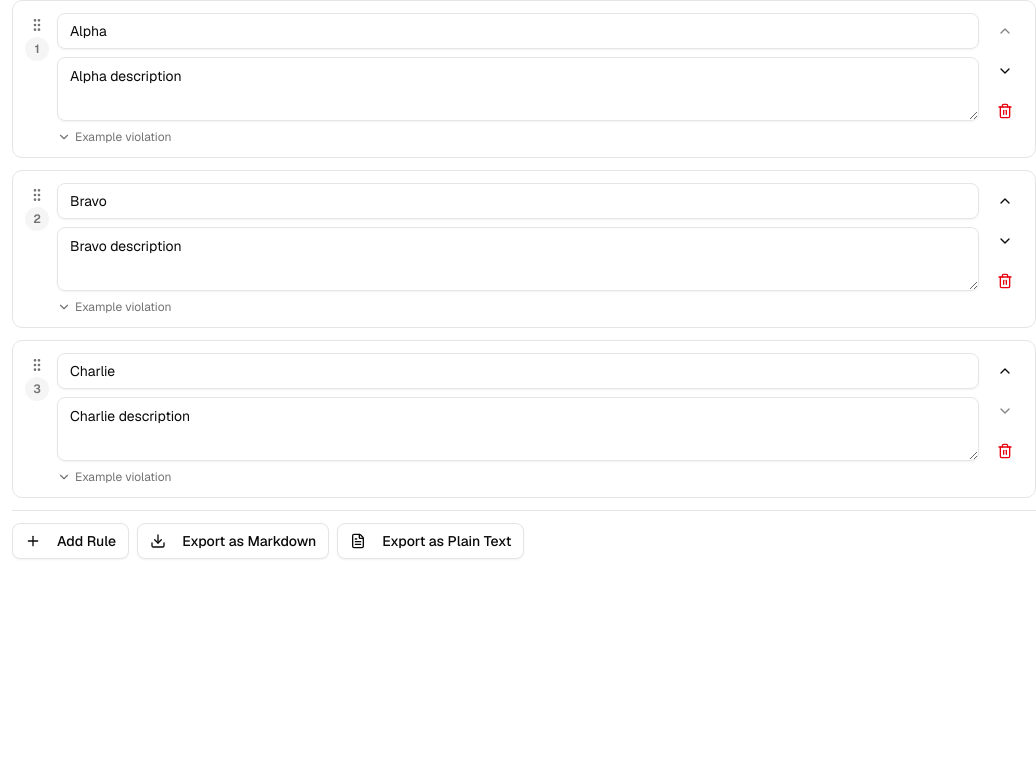
Test: RulesEditor › appends a blank editable rule when Add Rule is clicked
Expected: the number of fields with placeholder "Rule title" is 3, [57,13,979,49]; [57,183,979,219]; [57,353,979,389]
Step 1. Click the button "Add Rule" → (71, 541), box [12,523,129,559]
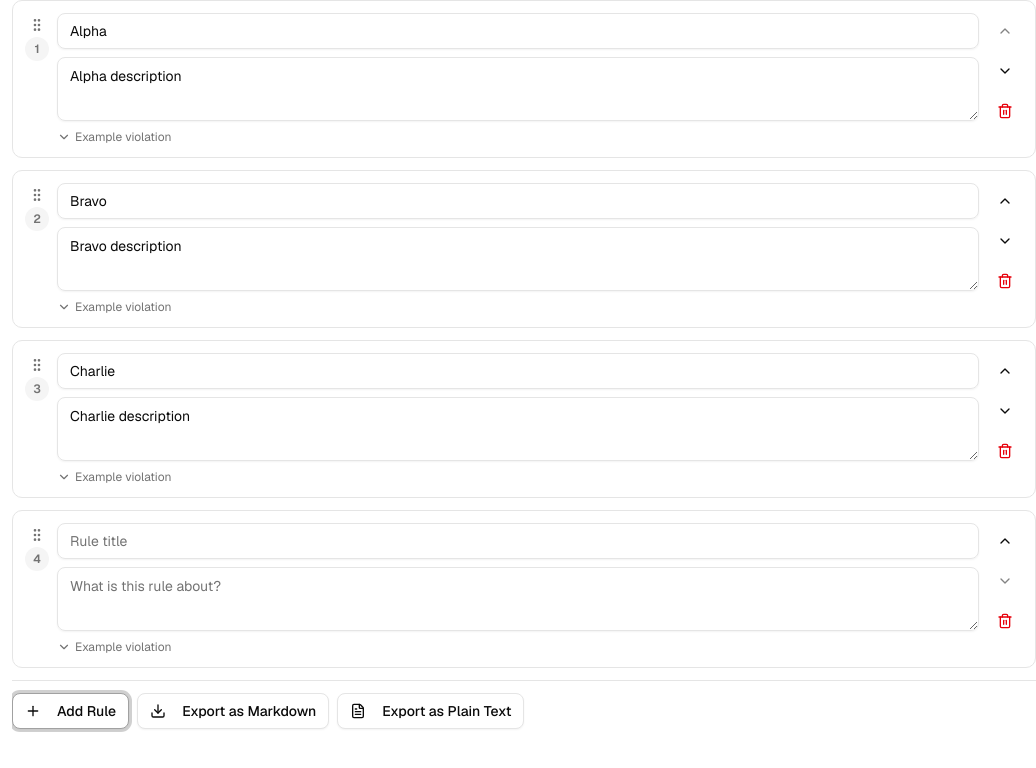
Expected: the number of fields with placeholder "Rule title" is 4, [57,13,979,49]; [57,183,979,219]; [57,353,979,389]; [57,523,979,559]
